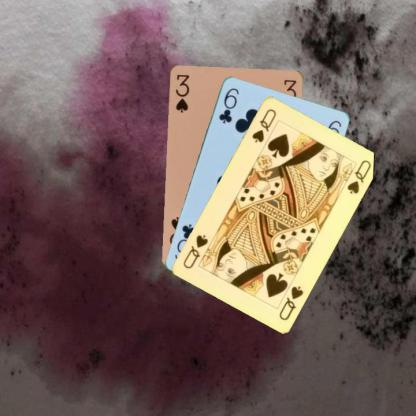3s: (172, 72, 191, 113)
6c: (216, 85, 240, 125)
Qs: (276, 283, 305, 321), (249, 106, 277, 144)
